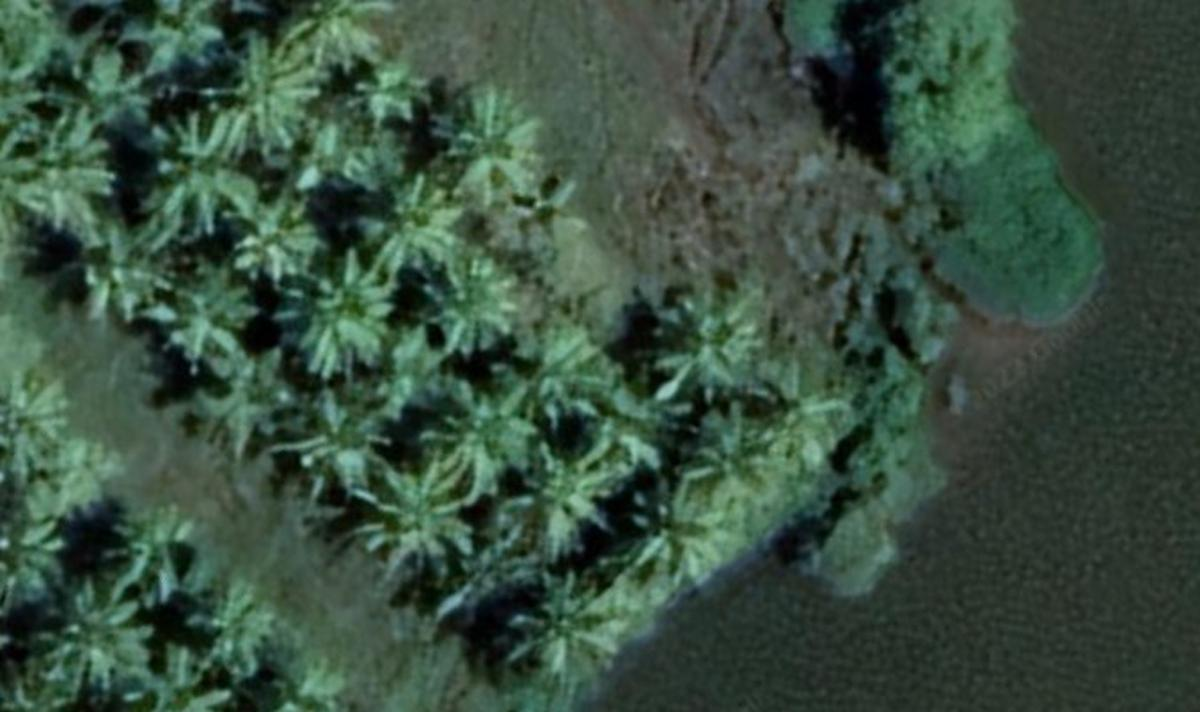coconut: (639, 289, 784, 408), (209, 31, 344, 156), (276, 245, 397, 374), (150, 104, 269, 229), (498, 562, 612, 683), (5, 110, 124, 220), (278, 388, 386, 509), (46, 584, 154, 704), (362, 179, 479, 289), (362, 474, 472, 589), (418, 252, 534, 355), (436, 88, 544, 195), (429, 374, 541, 475), (495, 317, 598, 426), (104, 500, 202, 609), (511, 454, 610, 559), (182, 580, 280, 680), (685, 411, 786, 507), (161, 282, 266, 374), (630, 490, 720, 591), (184, 355, 268, 459), (85, 218, 168, 317)
